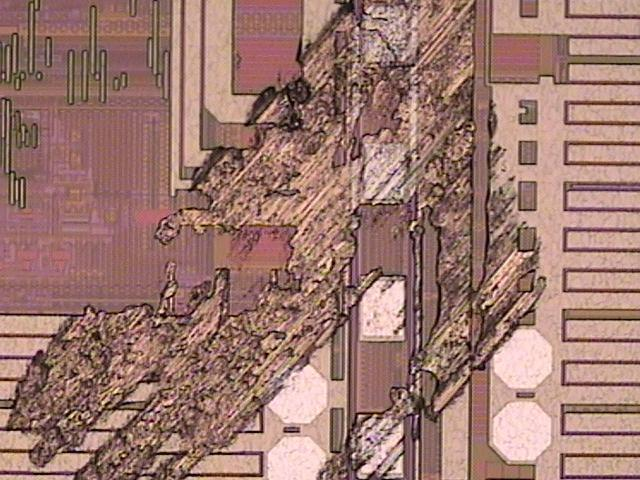SCRATCH: (2, 1, 556, 480)
